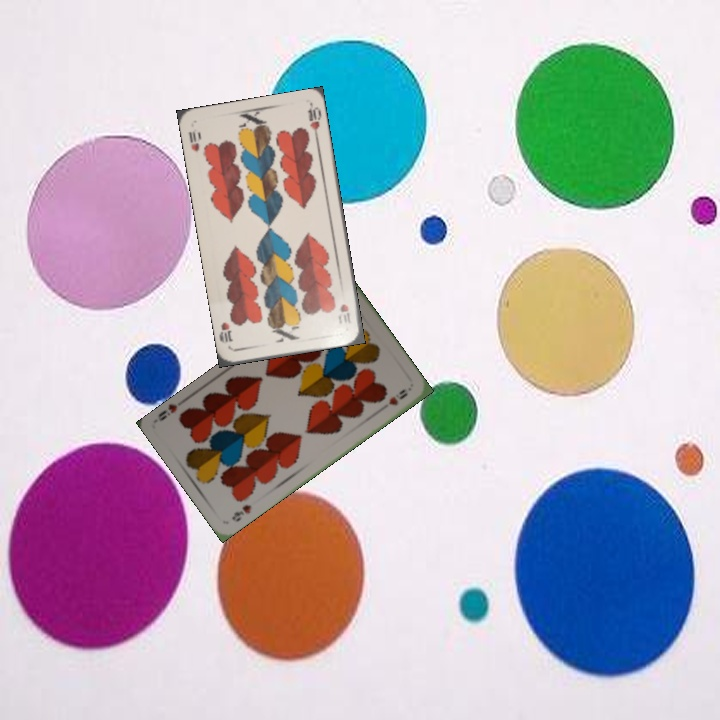H10: (185, 124, 204, 154), (336, 300, 353, 326)
H9: (227, 500, 254, 525)
